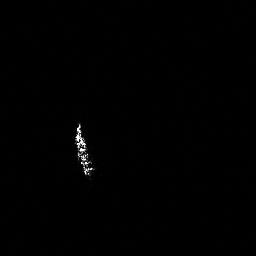ship: (70, 118, 98, 179)
